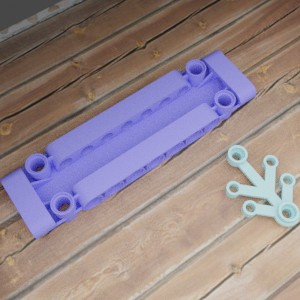lego: (0, 49, 256, 239), (225, 145, 300, 226)
